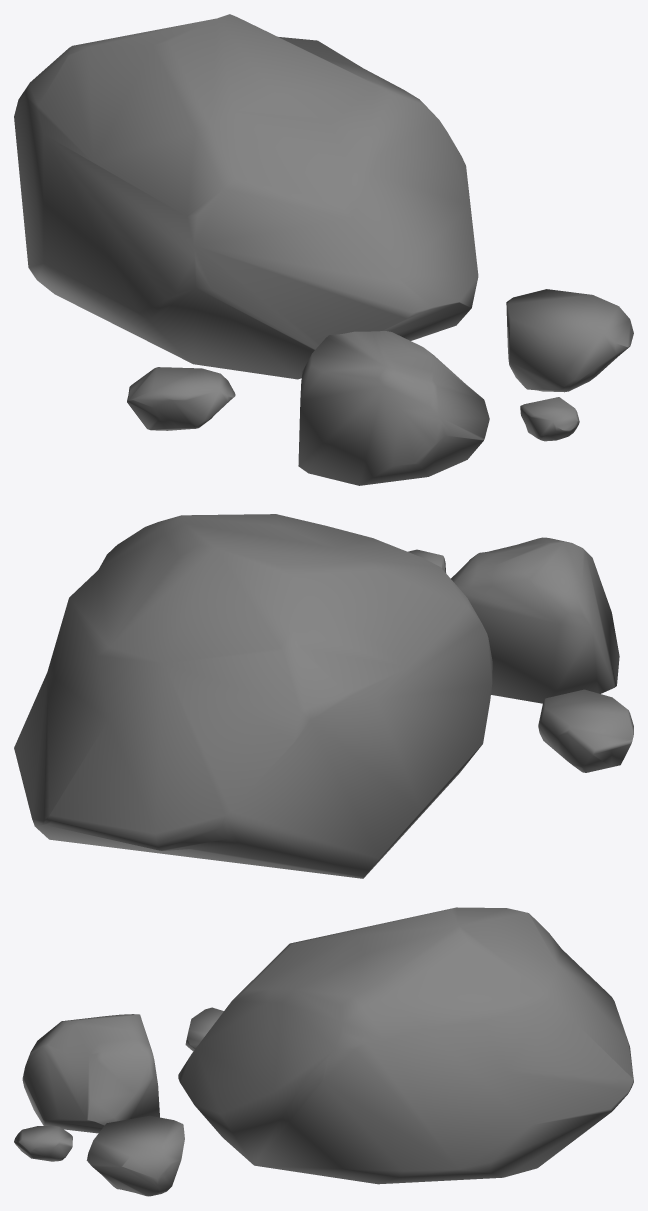
Rendered from RockBig.fbx.
The picture shows the model from 3 angles, top to bottom: view 1: azimuth 30°, elevation 25°; view 2: azimuth 150°, elevation 25°; view 3: azimuth 270°, elevation 25°; orthographic projection. The views are drawn at different scales.
Visible parts, largest first — view 1: Rock_1; view 2: Rock_1; view 3: Rock_1.
Part boxes in pixels (x1,y1,x2,y2): Rock_1: (14,14,633,485); Rock_1: (14,514,633,878); Rock_1: (14,907,633,1196).
Bounding box in the file's own units: 0.517 × 0.2924 × 0.7859.
